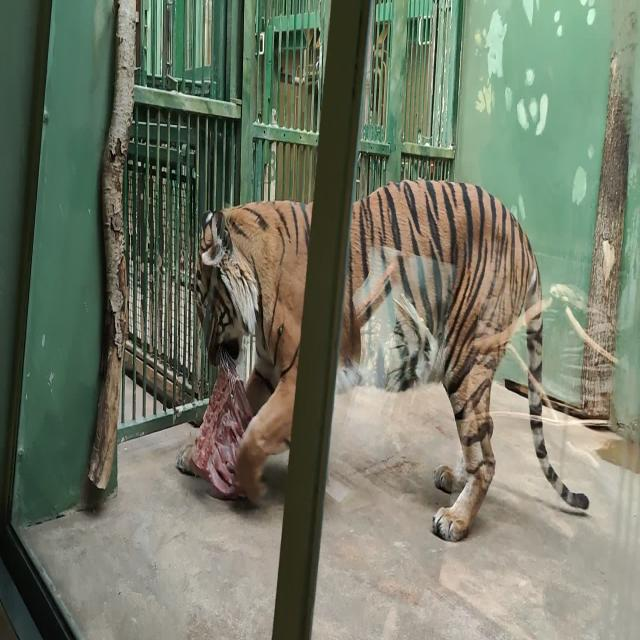tiger: (175, 179, 589, 543)
